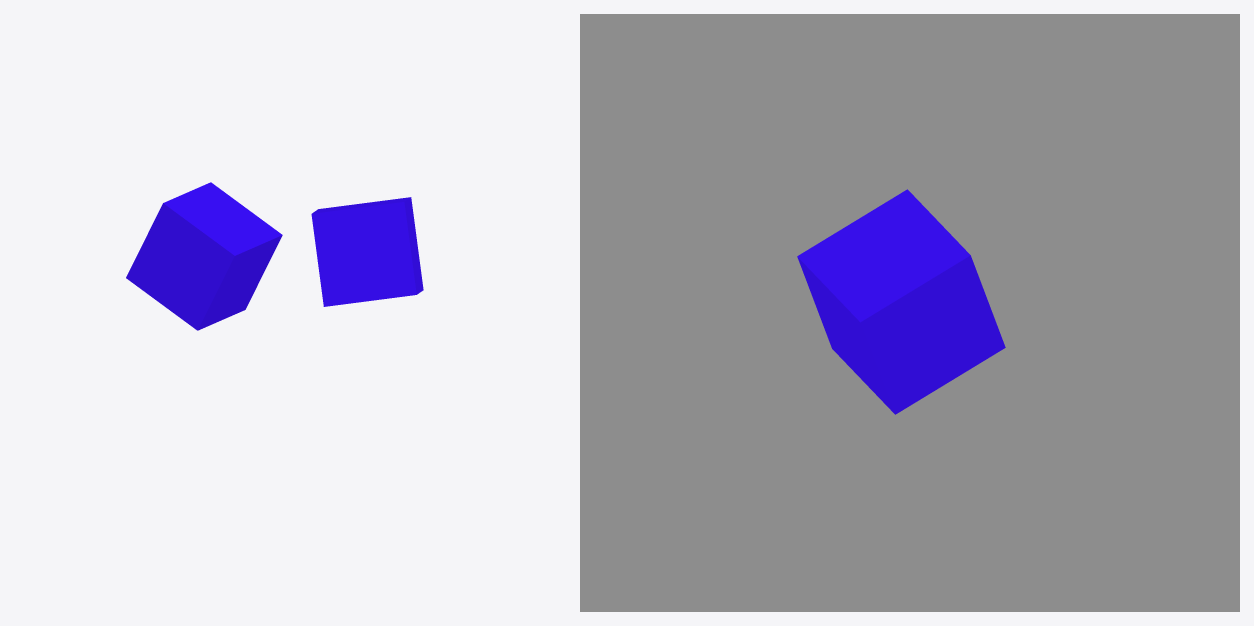
The picture shows the model from 3 angles, left to right: view 1: azimuth 30°, elevation 25°; view 2: azimuth 150°, elevation 25°; view 3: azimuth 270°, elevation 25°; orthographic projection. The views are drawn at different scales.
Parts seen in each view (by area): view 1: Cube; view 2: Cube; view 3: Plane, Cube.
Boxes of the visible parts, box(x1,y1,x2,y2) form: Cube: box(126, 182, 282, 330); Cube: box(311, 197, 423, 306); Plane: box(580, 14, 1239, 611); Cube: box(797, 189, 1005, 414).
Bounding box in the file's own units: 3.28 × 10 × 10.
